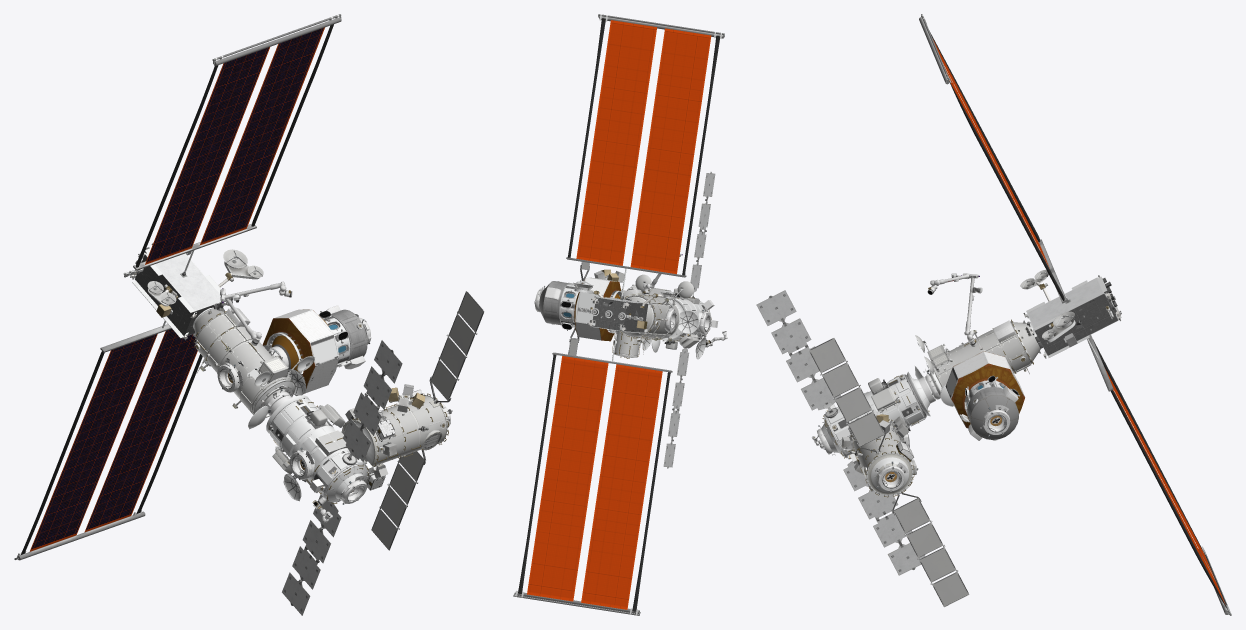
The model's file is Gateway.gltf.
The picture shows the model from 3 angles, left to right: view 1: azimuth 30°, elevation 25°; view 2: azimuth 150°, elevation 25°; view 3: azimuth 270°, elevation 25°; orthographic projection. The views are drawn at different scales.
Parts seen in each view (by area): view 1: Maxar_PPE Array, I-Hab, NG_HALO.001, ERMXL_LoRes, Maxar_PPE.001, I-Hab Radiator, Airlock, Airlock_radiator; view 2: Maxar_PPE Array, ERMXL_LoRes, Maxar_PPE.001, I-Hab Radiator, NG_HALO.001, I-Hab, Airlock, NDS Shutter.003, Airlock_radiator; view 3: Airlock_radiator, I-Hab Radiator, Maxar_PPE Array, Maxar_PPE.001, ERMXL_LoRes, NG_HALO.001, I-Hab, Airlock.
Boxes of the visible parts, left/top/right/bottom form: Maxar_PPE Array: left=14, top=14, right=341, bottom=560; I-Hab: left=266, top=395, right=372, bottom=503; NG_HALO.001: left=193, top=307, right=314, bottom=417; ERMXL_LoRes: left=262, top=305, right=367, bottom=393; Maxar_PPE.001: left=123, top=243, right=263, bottom=340; I-Hab Radiator: left=282, top=340, right=402, bottom=615; Airlock: left=341, top=384, right=452, bottom=490; Airlock_radiator: left=371, top=290, right=484, bottom=550; Maxar_PPE Array: left=513, top=14, right=724, bottom=615; ERMXL_LoRes: left=539, top=277, right=624, bottom=341; Maxar_PPE.001: left=573, top=281, right=675, bottom=334; I-Hab Radiator: left=663, top=172, right=715, bottom=468; NG_HALO.001: left=620, top=274, right=693, bottom=354; I-Hab: left=662, top=288, right=718, bottom=349; Airlock: left=594, top=269, right=650, bottom=358; NDS Shutter.003: left=678, top=310, right=699, bottom=333; Airlock_radiator: left=568, top=262, right=589, bottom=355; Airlock_radiator: left=809, top=338, right=969, bottom=607; I-Hab Radiator: left=756, top=290, right=925, bottom=575; Maxar_PPE Array: left=919, top=14, right=1231, bottom=615; Maxar_PPE.001: left=1020, top=269, right=1121, bottom=358; ERMXL_LoRes: left=945, top=351, right=1025, bottom=440; NG_HALO.001: left=915, top=319, right=1040, bottom=396; I-Hab: left=821, top=372, right=930, bottom=463; Airlock: left=841, top=411, right=918, bottom=497.
Bounding box in the file's own units: 36.56 × 79.68 × 61.48.
Materials: 14 (14 with a texture image).
